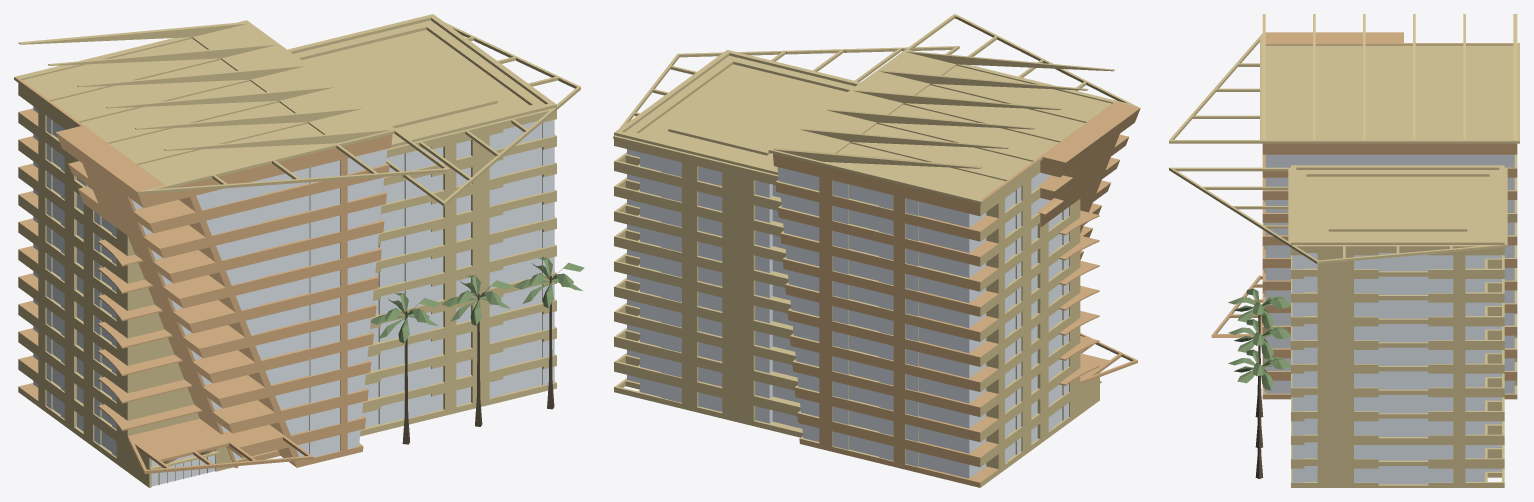
File: Modern Apartment.FBX
3 renders of one model, left to right at view 1: azimuth 30°, elevation 25°; view 2: azimuth 150°, elevation 25°; view 3: azimuth 270°, elevation 25°, orthographic. The views are drawn at different scales.
Parts seen in each view (by area): view 1: Model, Model02, Model03, Model01; view 2: Model; view 3: Model, Model02, Model03, Model01.
Part boxes in pixels (x1,y1,x2,y2): Model: [14, 14, 580, 487]; Model02: [513, 257, 584, 409]; Model03: [441, 275, 512, 426]; Model01: [370, 293, 439, 444]; Model: [613, 14, 1140, 487]; Model: [1169, 14, 1519, 487]; Model02: [1228, 349, 1290, 478]; Model03: [1228, 319, 1290, 447]; Model01: [1228, 288, 1290, 417].
Size of the model in its own units: 2122 by 1493 by 1572.
